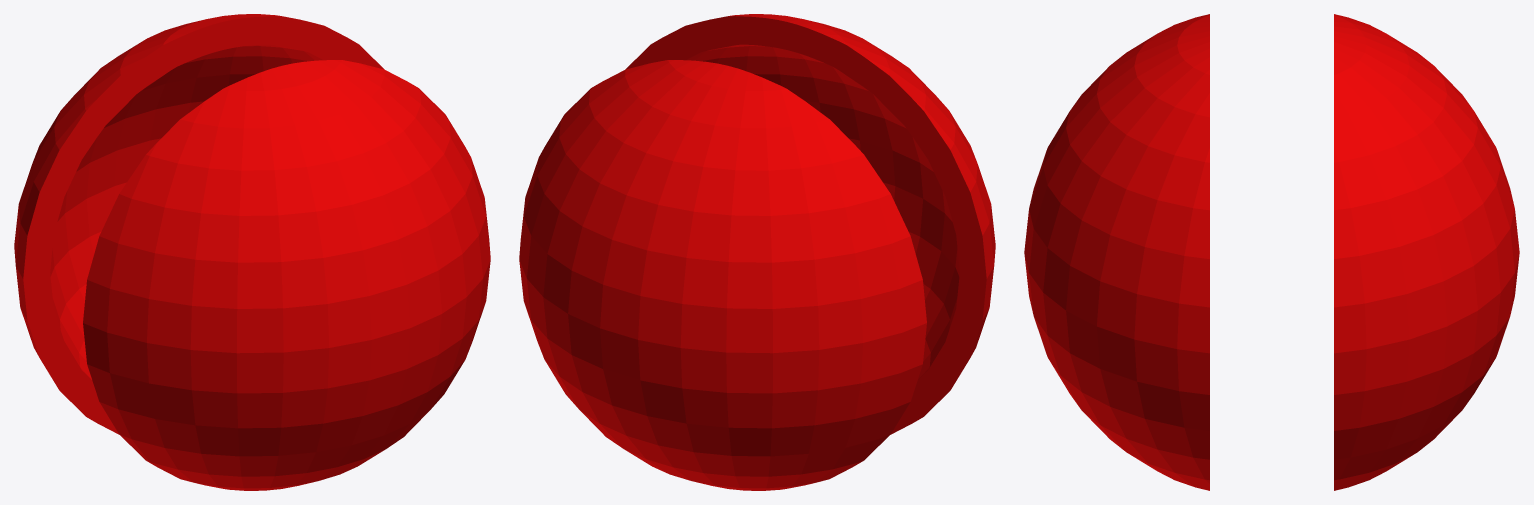
File: Turret_P1_Red.fbx
The picture shows the model from 3 angles, left to right: view 1: azimuth 30°, elevation 25°; view 2: azimuth 150°, elevation 25°; view 3: azimuth 270°, elevation 25°; orthographic projection. The views are drawn at different scales.
Parts seen in each view (by area): view 1: Sphere; view 2: Sphere; view 3: Sphere.
Boxes of the visible parts, <box> form: Sphere: <box>14,14,490,490</box>; Sphere: <box>519,14,995,490</box>; Sphere: <box>1024,14,1519,490</box>.
Bounding box in the file's own units: 193 × 193 × 200.
